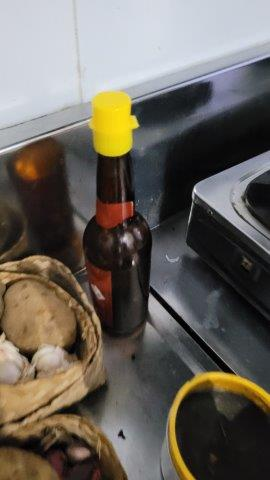botolkaca: (82, 90, 154, 337)
